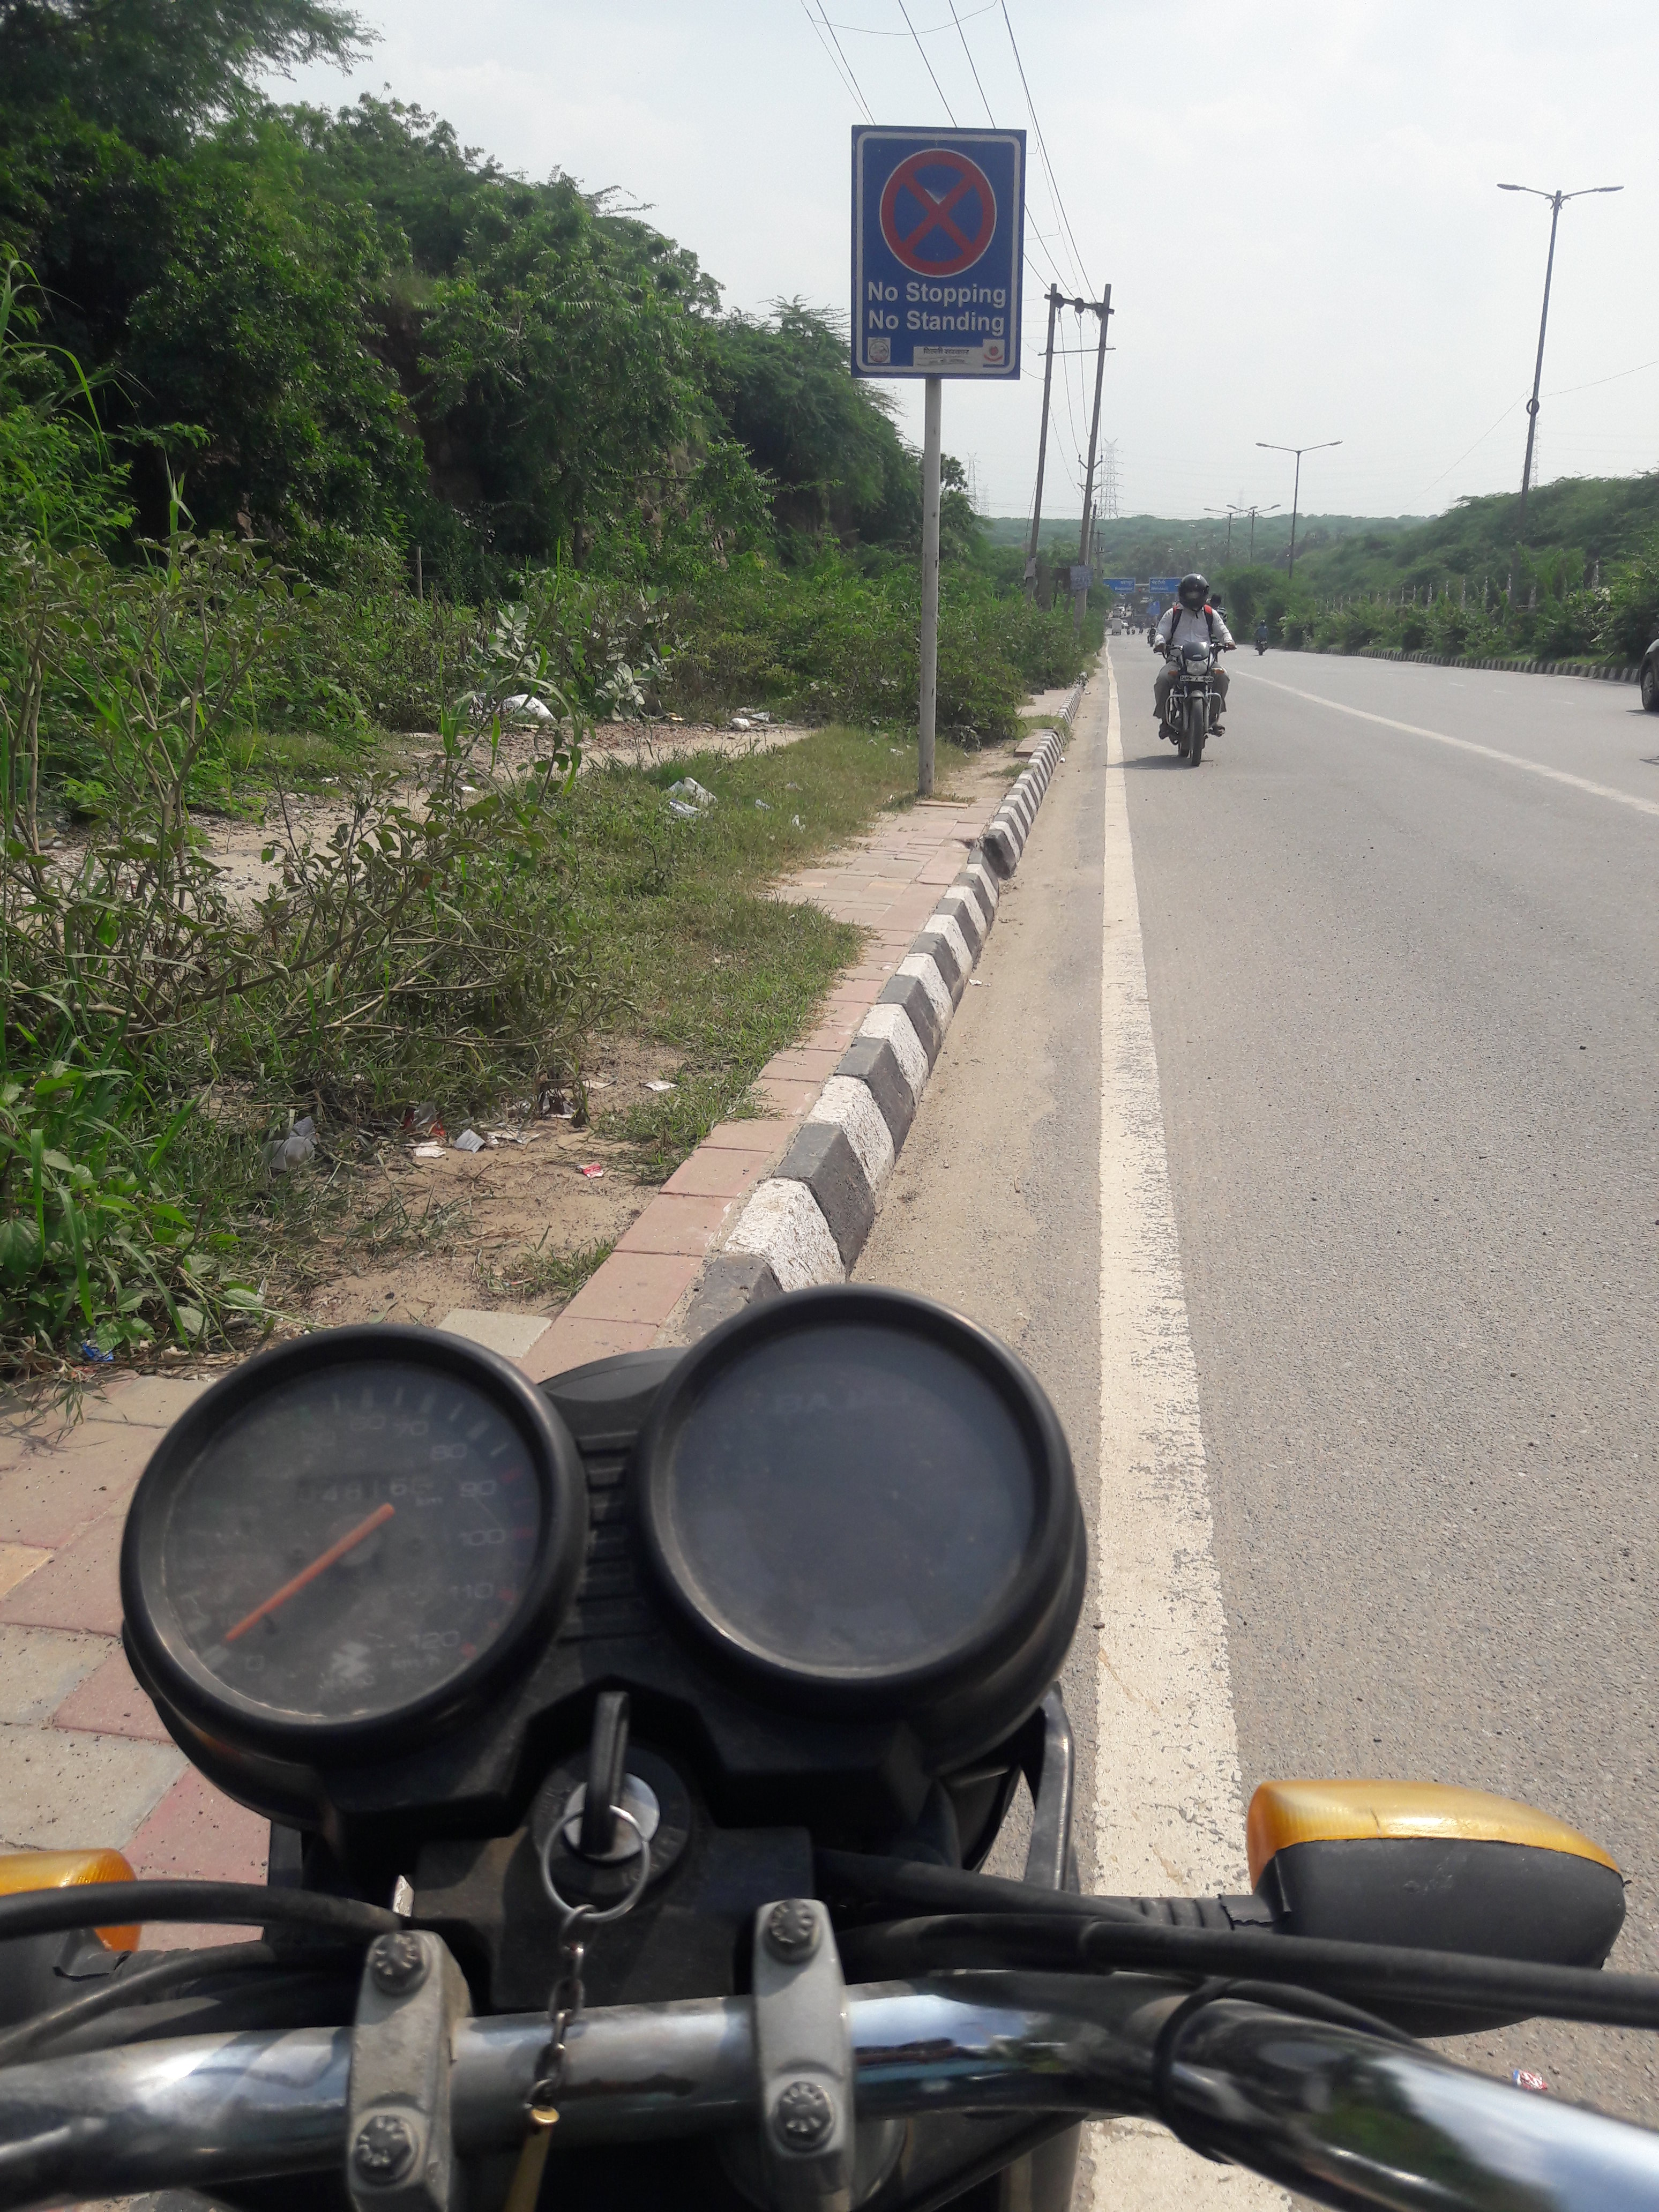traffic_sign: (849, 124, 1026, 380)
